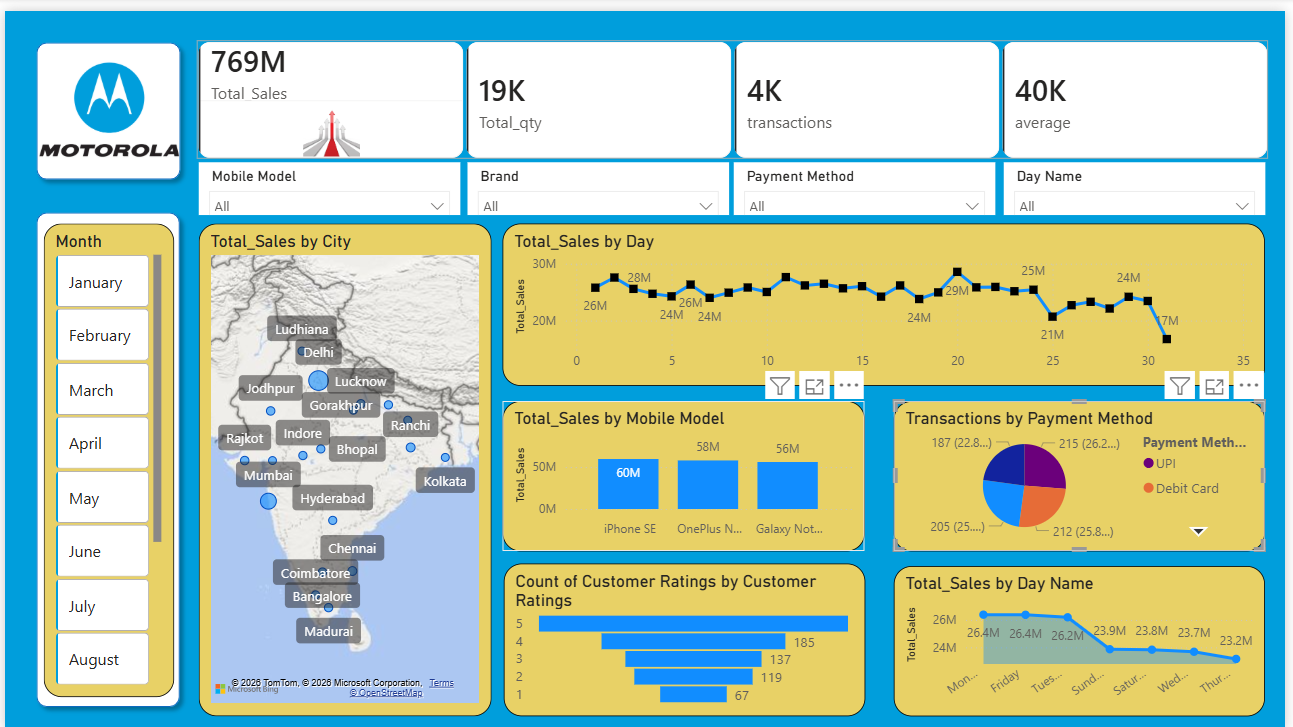

What the dashboard file says about the page in this screenshot:
{"tool":"powerbi","page":{"name":"Page 1","canvas":[1280,720],"ordinal":0},"visuals":[{"type":"shape","box":[22,22,161.9,155.1],"z":0},{"type":"image","box":[30.2,32.9,145.5,133.1],"z":1000},{"type":"shape","box":[22.5,192.5,161.2,512.5],"z":2000},{"type":"advancedSlicerVisual","fields":{"Values":["sales_data.DATE.Variation.Date Hierarchy.Month"]},"box":[38.8,212.5,130,473.8],"z":3000},{"type":"cardVisual","fields":{"Data":["sales_data.Total_Sales","sales_data.Total_qty","sales_data.transactions","sales_data.average"]},"box":[175,12.5,1105,152.5],"z":4000},{"type":"map","fields":{"Category":["sales_data.City"],"Size":["sales_data.Total_Sales"]},"box":[193.8,212.5,292.5,492.5],"z":5000},{"type":"lineChart","fields":{"Category":["sales_data.DATE.Variation.Date Hierarchy.Month","sales_data.DATE.Variation.Date Hierarchy.Day"],"Y":["sales_data.Total_Sales"]},"box":[497.5,212.5,762.5,162.5],"z":6000},{"type":"clusteredColumnChart","fields":{"Category":["sales_data.Mobile Model"],"Y":["sales_data.Total_Sales"]},"box":[497.5,390,362.5,150],"z":7000},{"type":"pieChart","fields":{"Category":["sales_data.Payment Method"],"Y":["sales_data.transactions"]},"box":[888.8,390,371.2,150],"z":8000},{"type":"funnel","fields":{"Category":["sales_data.Customer Ratings"],"Y":["CountNonNull(sales_data.Customer Ratings)"]},"box":[498.8,552.5,361.2,152.5],"z":9000},{"type":"areaChart","fields":{"Y":["sales_data.Total_Sales"],"Category":["sales_data.Day Name"]},"box":[888.8,555,371.2,150],"z":10000},{"type":"slicer","fields":{"Values":["sales_data.Mobile Model"]},"box":[193.8,151.2,261.2,52.5],"z":11000},{"type":"slicer","fields":{"Values":["sales_data.Brand"]},"box":[462.5,151.2,261.2,52.5],"z":12000},{"type":"slicer","fields":{"Values":["sales_data.Day Name"]},"box":[998.8,151.2,261.2,52.5],"z":13000},{"type":"slicer","fields":{"Values":["sales_data.Payment Method"]},"box":[728.8,151.2,261.2,52.5],"z":14000}]}

Visuals, with their boxes in screenshot pixels (x1, y1, x2, y2), scaled from the page's 1280x720 canvas onto the 1293x727 screenshot:
shape: <box>22,22,186,179</box>
image: <box>31,33,177,168</box>
shape: <box>23,194,186,712</box>
advancedSlicerVisual - sales_data.DATE.Variation.Date Hierarchy.Month: <box>39,215,171,693</box>
cardVisual - sales_data.Total_Sales x sales_data.Total_qty: <box>177,13,1292,167</box>
map - sales_data.City x sales_data.Total_Sales: <box>196,215,491,712</box>
lineChart - sales_data.DATE.Variation.Date Hierarchy.Month x sales_data.DATE.Variation.Date Hierarchy.Day: <box>503,215,1273,379</box>
clusteredColumnChart - sales_data.Mobile Model x sales_data.Total_Sales: <box>503,394,869,545</box>
pieChart - sales_data.Payment Method x sales_data.transactions: <box>898,394,1273,545</box>
funnel - sales_data.Customer Ratings x CountNonNull(sales_data.Customer Ratings): <box>504,558,869,712</box>
areaChart - sales_data.Total_Sales x sales_data.Day Name: <box>898,560,1273,712</box>
slicer - sales_data.Mobile Model: <box>196,153,460,206</box>
slicer - sales_data.Brand: <box>467,153,731,206</box>
slicer - sales_data.Day Name: <box>1009,153,1273,206</box>
slicer - sales_data.Payment Method: <box>736,153,1000,206</box>
